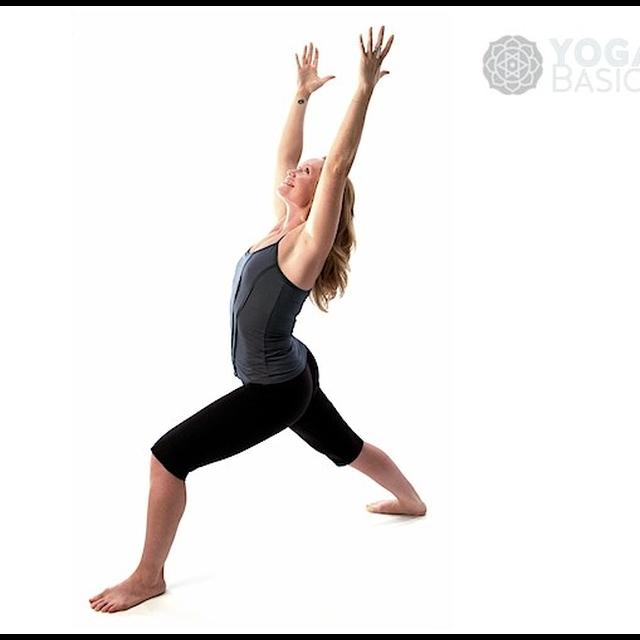Warrior_I: (84, 19, 431, 612)
